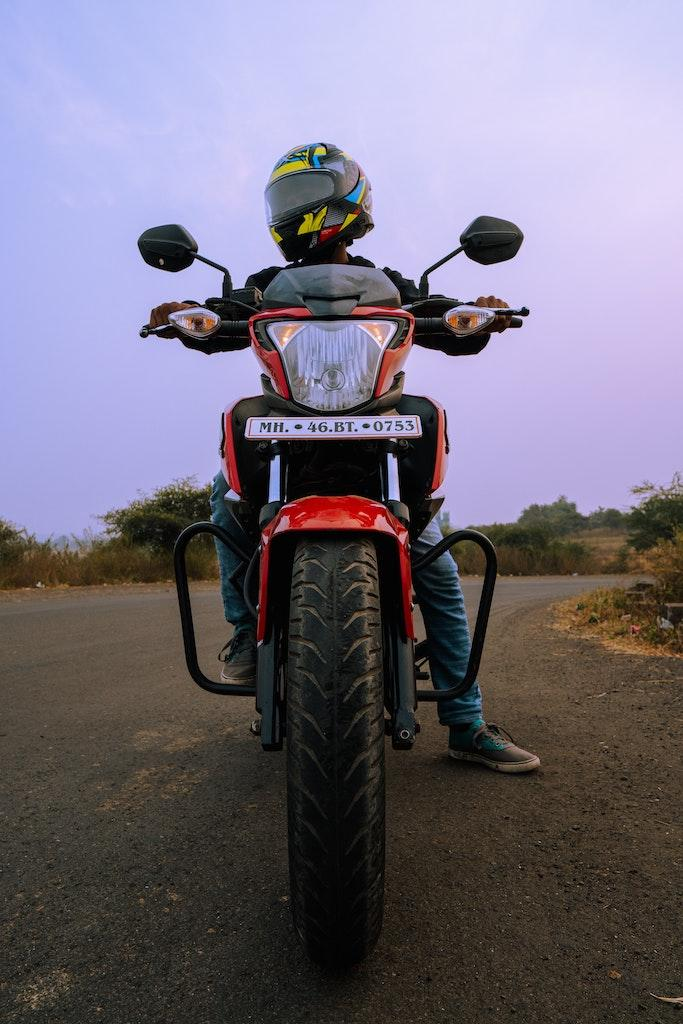helmet: (263, 141, 376, 263)
